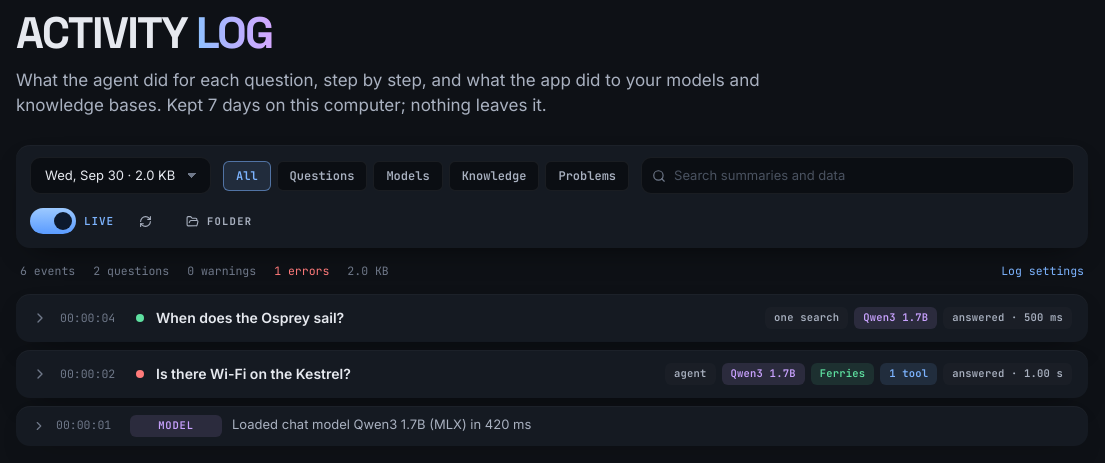
Test: Logs › filters to problems and searches the data
Expected: the button "Osprey" is shown, top-left (16, 294), bottom-right (1088, 342)
Click the button "Problems" at (587, 176), box top-left (545, 161), bottom-right (629, 191)
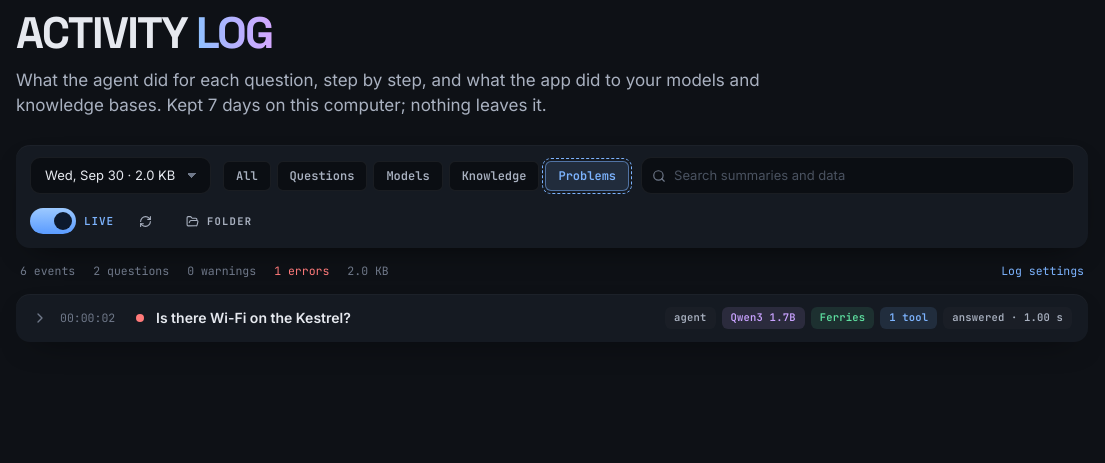
Expected: the button "Kestrel" is shown, top-left (16, 294), bottom-right (1088, 342)
Expected: the button "Osprey" is gone
Click the button "All" at (247, 176), box top-left (223, 161), bottom-right (271, 191)
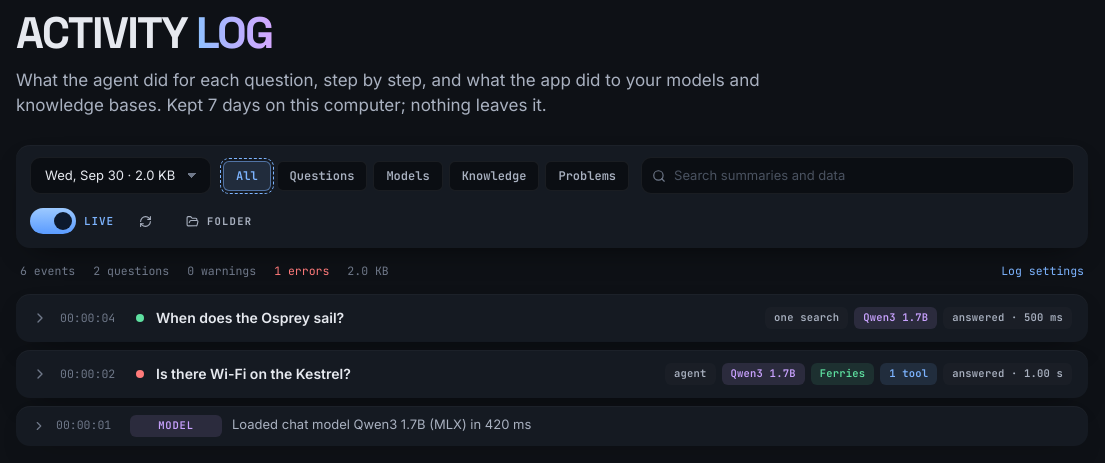
Type "osprey" into the search field named "Search the log" at (858, 176), box top-left (641, 157), bottom-right (1074, 194)
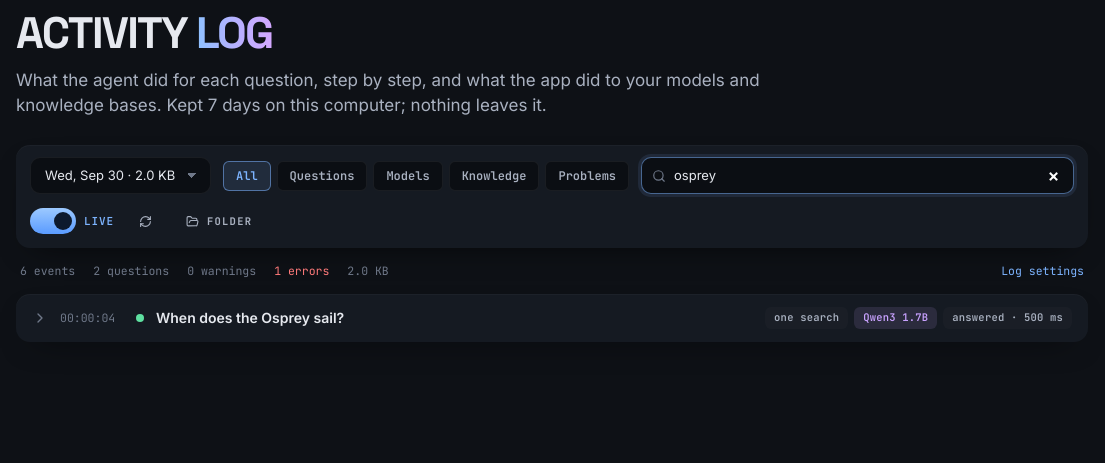
Expected: the button "Kestrel" is gone
Expected: the button "Loaded chat model" is gone
